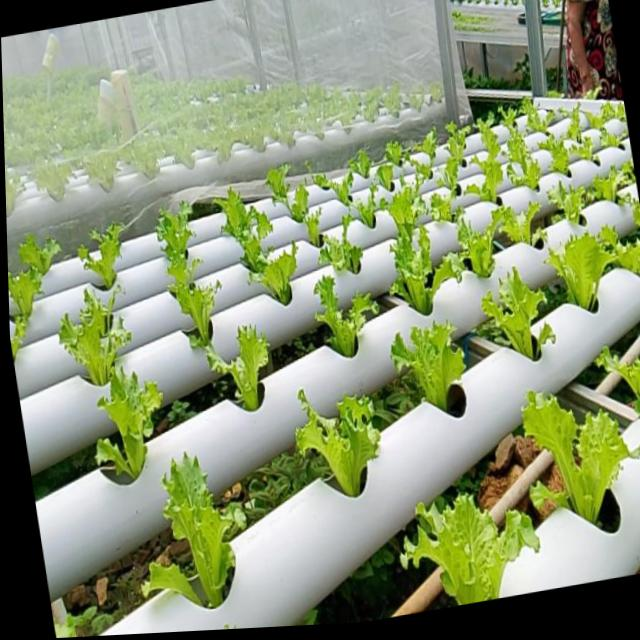Baby: (405, 492, 543, 602), (526, 389, 640, 519), (168, 452, 250, 606), (162, 204, 225, 355), (300, 390, 384, 497), (104, 369, 169, 480), (395, 322, 470, 417), (66, 290, 137, 386), (486, 267, 553, 361), (549, 227, 618, 309), (211, 326, 274, 412), (318, 276, 383, 358), (219, 190, 277, 274), (454, 206, 516, 282), (505, 109, 545, 190), (8, 266, 50, 340), (323, 216, 375, 275), (384, 180, 432, 243), (254, 245, 302, 306), (85, 225, 129, 291), (545, 133, 574, 174), (526, 98, 559, 132), (413, 153, 437, 185), (570, 104, 587, 142), (434, 194, 457, 222)
